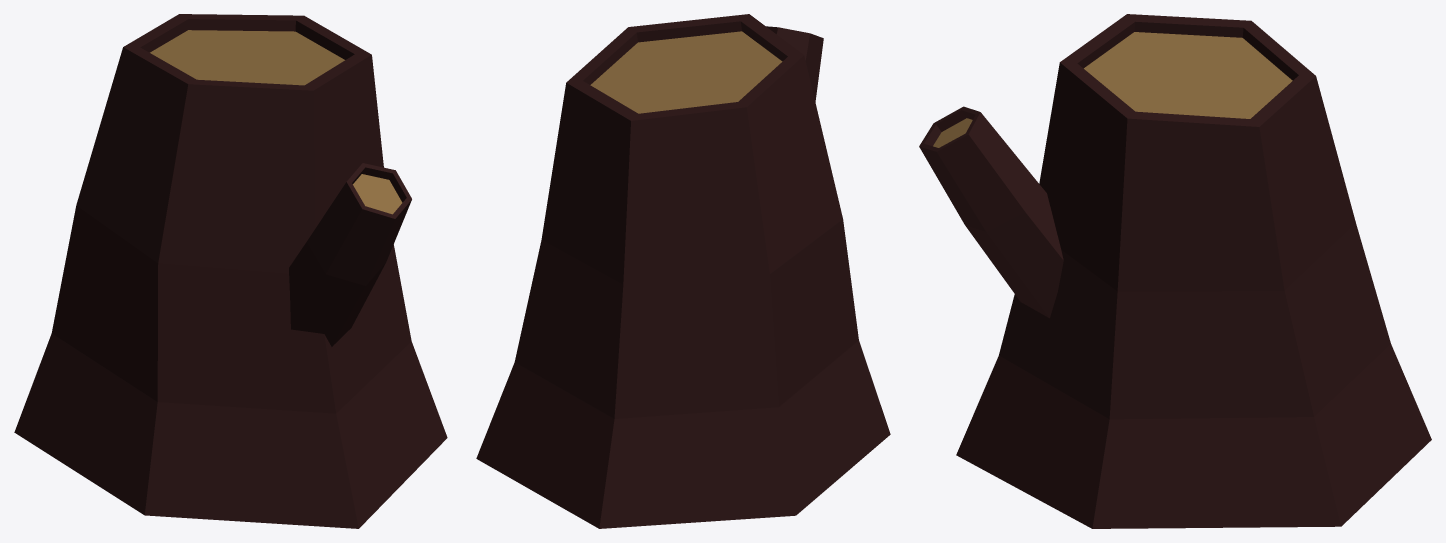
The model's file is TreeStump(2).fbx.
3 views of the same model, side by side, from view 1: azimuth 30°, elevation 25°; view 2: azimuth 150°, elevation 25°; view 3: azimuth 270°, elevation 25° (orthographic). The views are drawn at different scales.
Parts seen in each view (by area): view 1: TreeStump(2); view 2: TreeStump(2); view 3: TreeStump(2).
Boxes of the visible parts, x1,y1,x2,y2 form: TreeStump(2): [14, 14, 447, 528]; TreeStump(2): [476, 14, 890, 528]; TreeStump(2): [919, 14, 1431, 528].
Size of the model in its own units: 0.9583 by 1.14 by 1.32.
